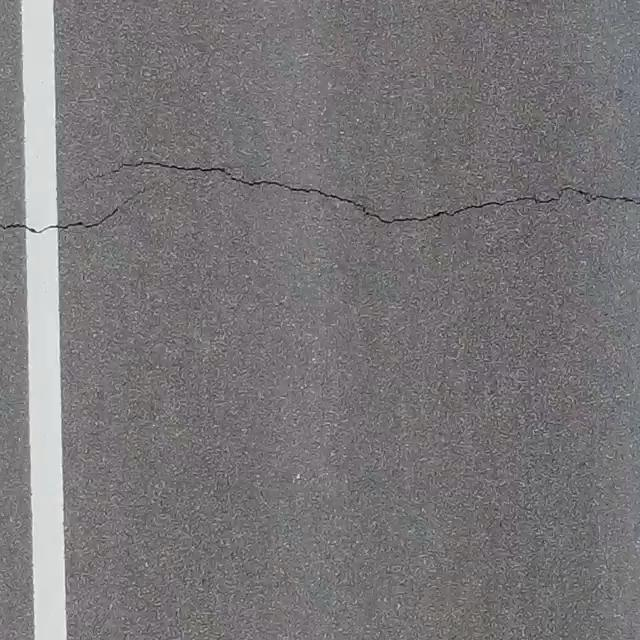GRIETA: (89, 160, 639, 225), (0, 188, 144, 235)
